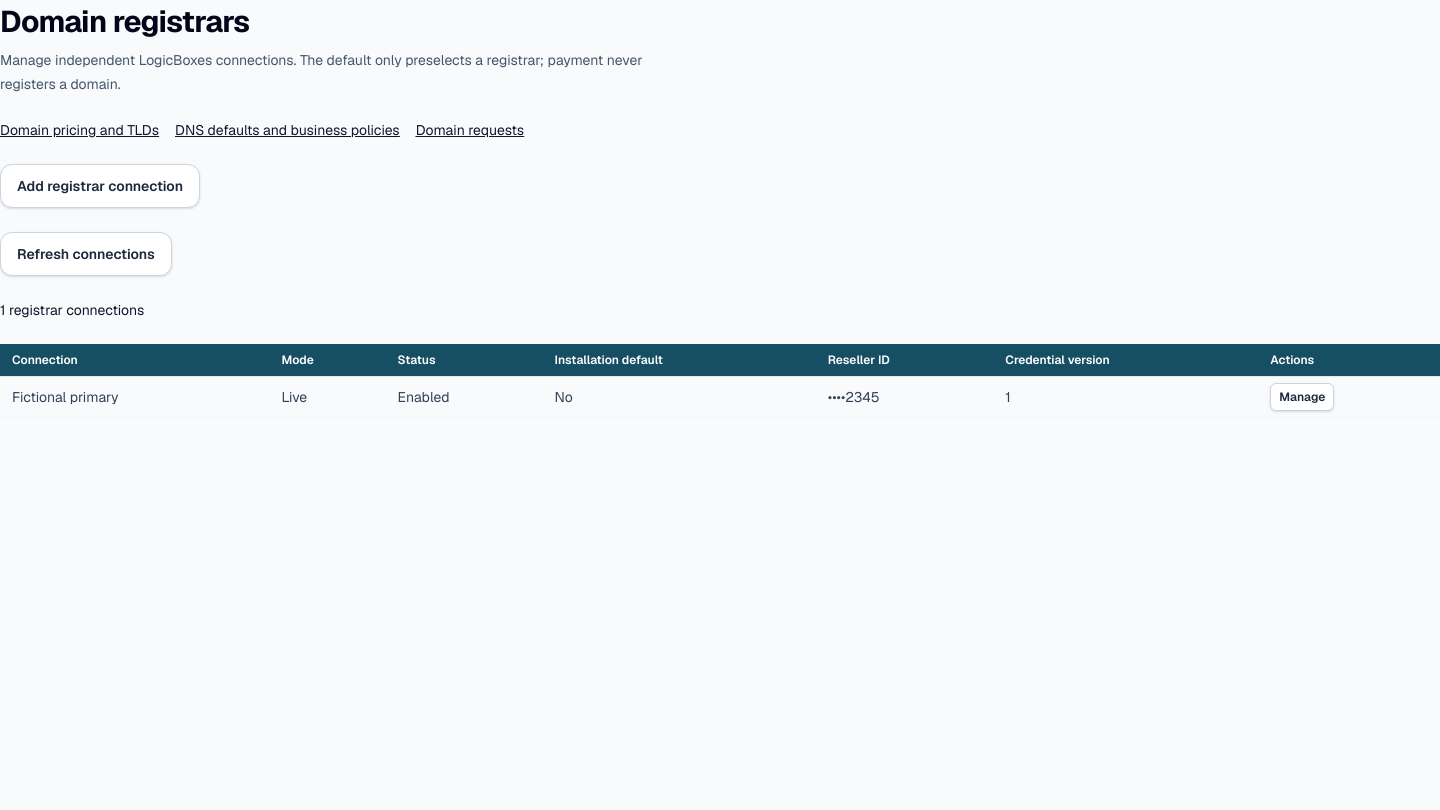
Test case: separate registrar connections › requires explicit review before selecting a default and never auto-selects on load
Click the button named "Manage Fictional primary". click: (1302, 397)
box: [1270,383,1334,411]
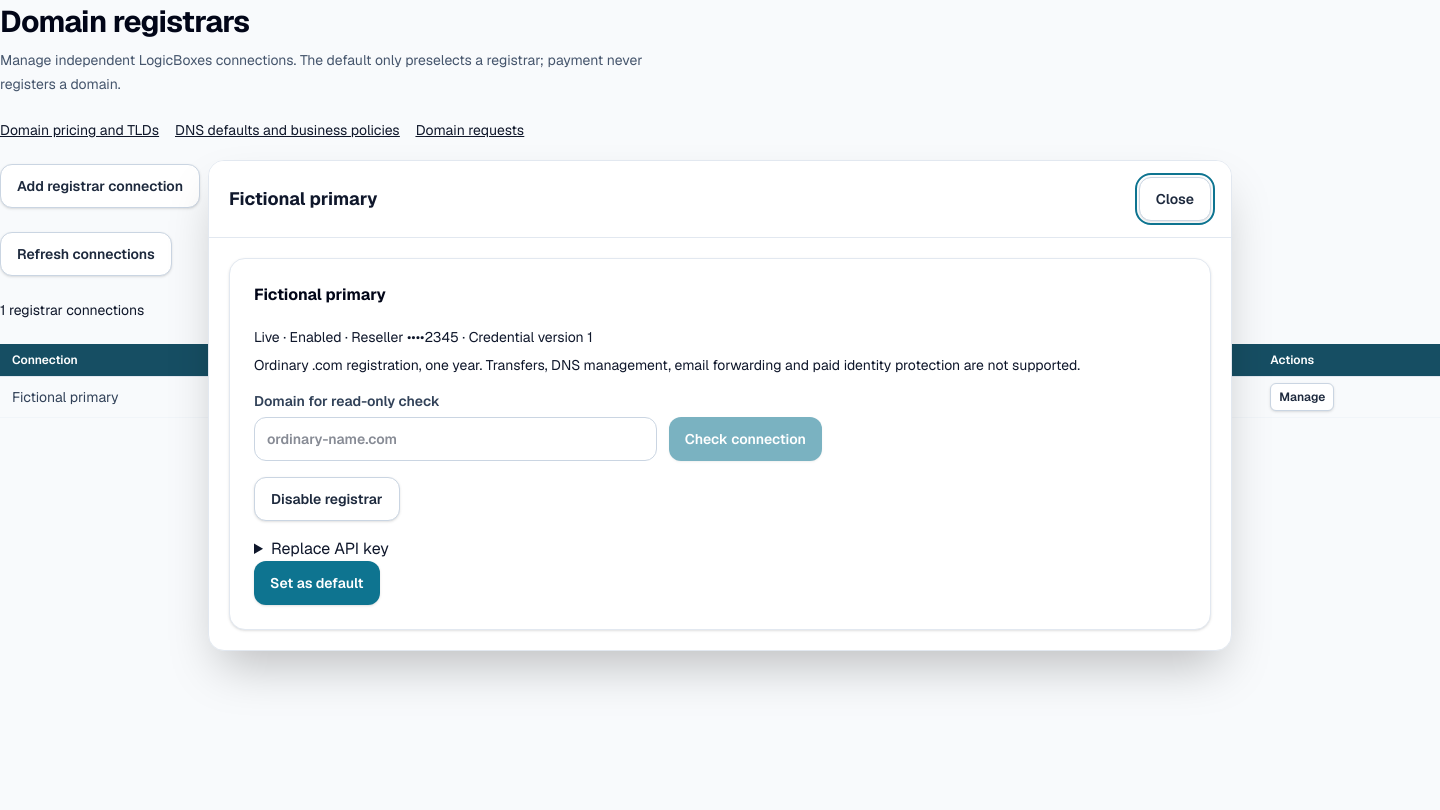
Click the button "Set as default". click: (317, 582)
box: [254,560,380,604]
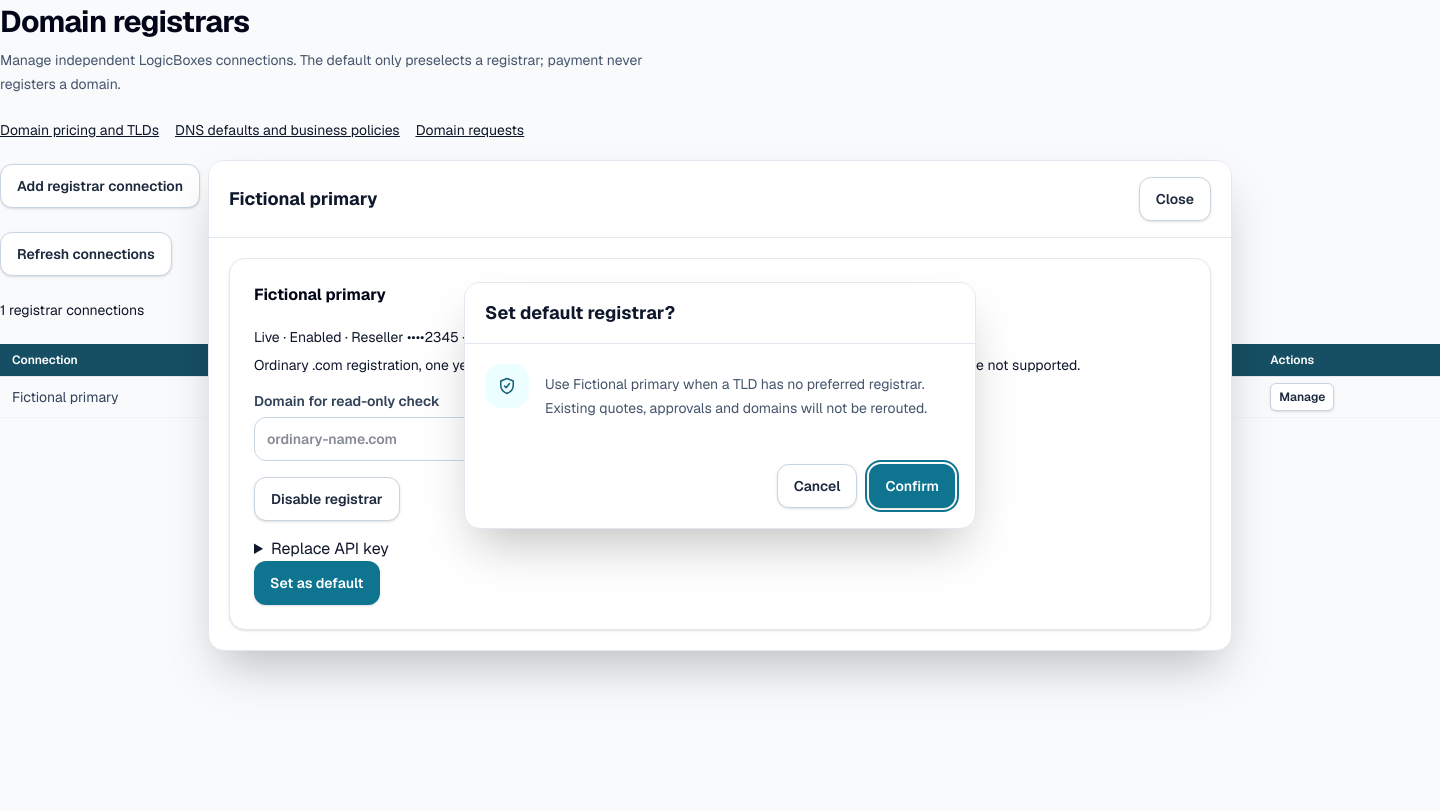
Click the button "Confirm". click: (912, 486)
box: [870,464,955,508]
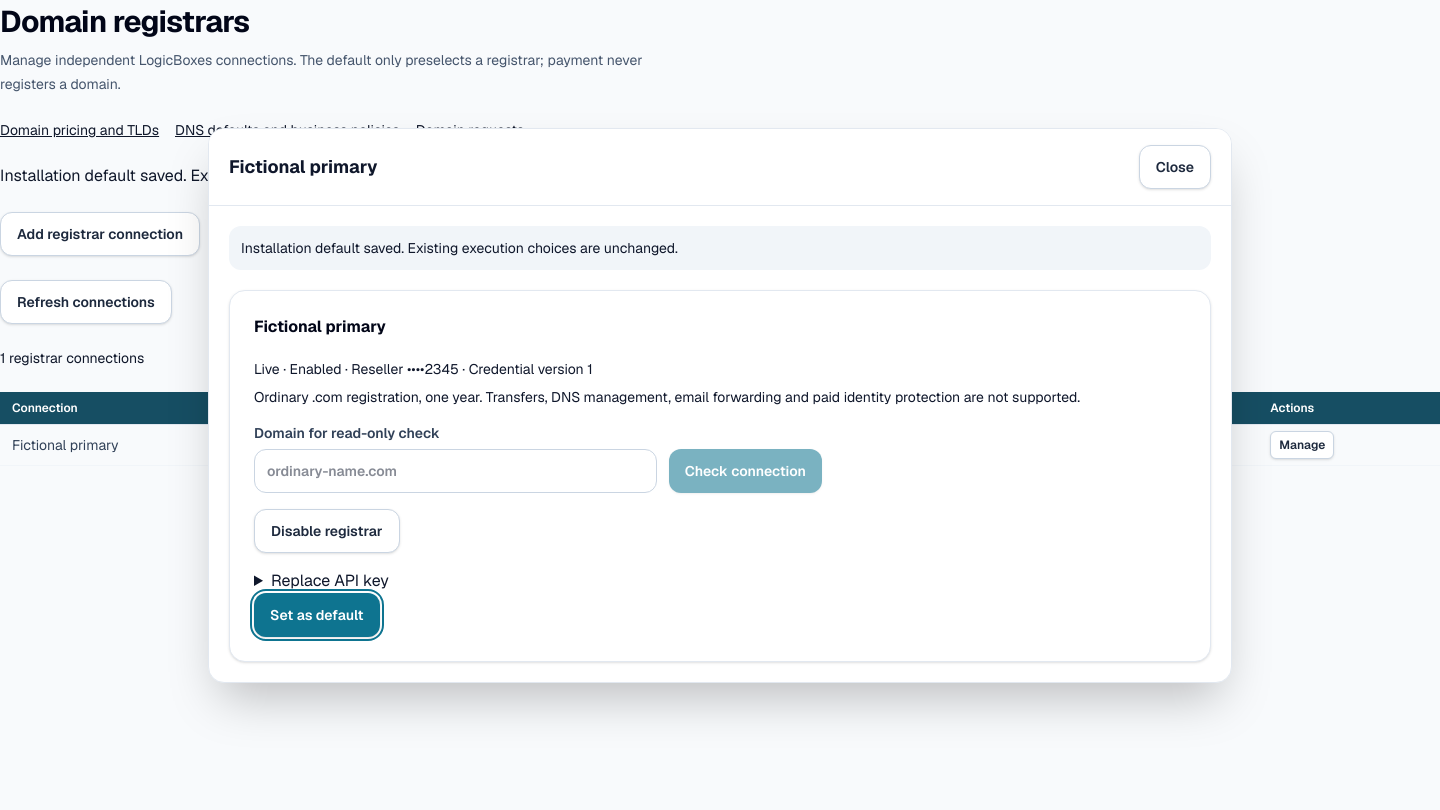
Result: the message "Installation default saved. Existing execution choices are unchanged." is shown at [0,165,499,186]
